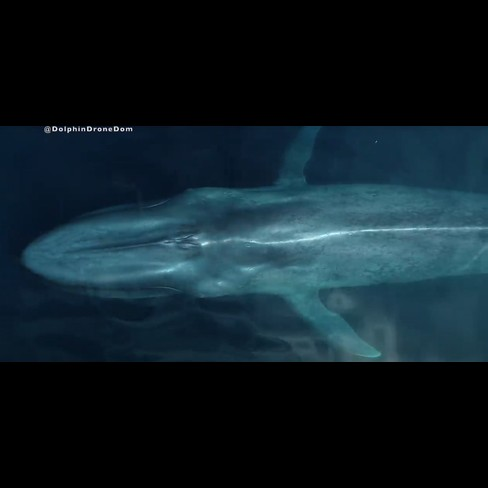bluewhale: (16, 127, 488, 359)
